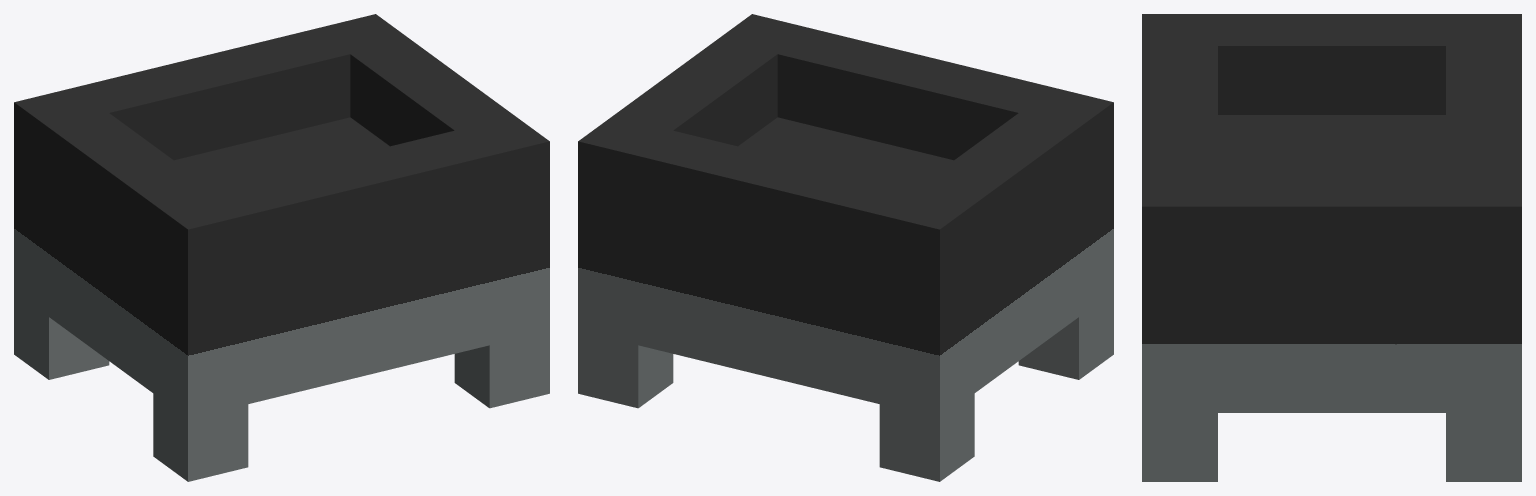
File: IngotCast1.obj
The picture shows the model from 3 angles, left to right: view 1: azimuth 30°, elevation 25°; view 2: azimuth 150°, elevation 25°; view 3: azimuth 270°, elevation 25°; orthographic projection. The views are drawn at different scales.
Visible parts, largest first — view 1: Model; view 2: Model; view 3: Model.
Boxes of the visible parts, left/top/right/bottom form: Model: left=14, top=14, right=549, bottom=481; Model: left=578, top=14, right=1113, bottom=481; Model: left=1142, top=14, right=1521, bottom=481.
Size of the model in its own units: 6 by 4 by 5.
1 material, 1 textured.
